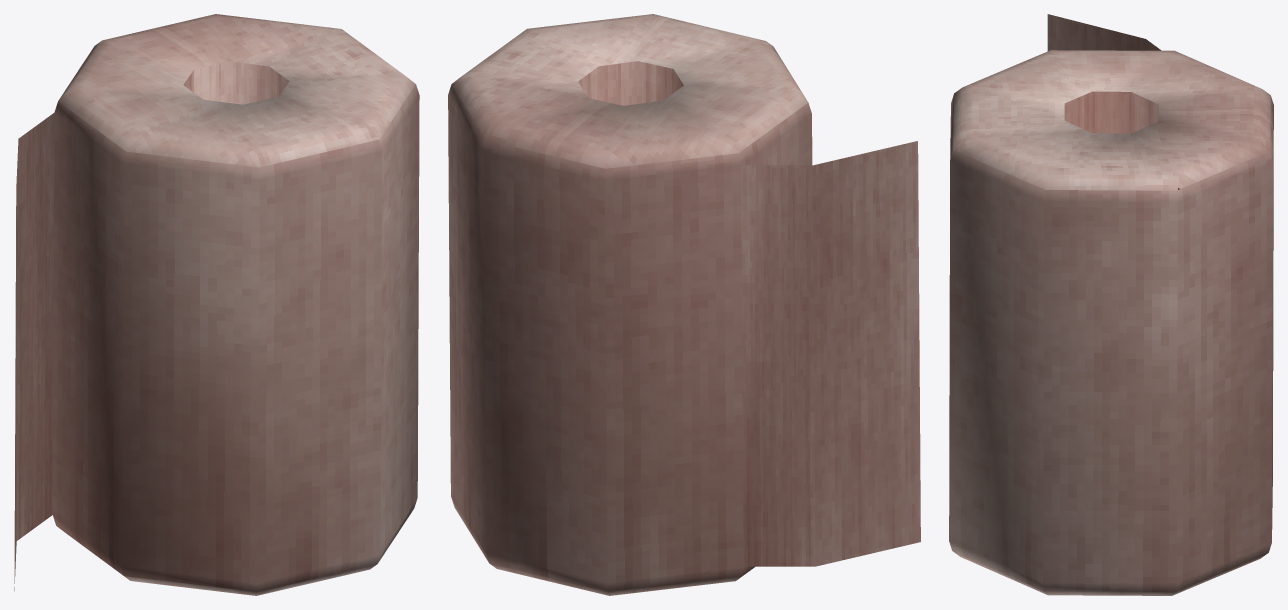
File: Bandage.glb
3 views of the same model, side by side, from view 1: azimuth 30°, elevation 25°; view 2: azimuth 150°, elevation 25°; view 3: azimuth 270°, elevation 25° (orthographic). The views are drawn at different scales.
Parts seen in each view (by area): view 1: Bandage.col; view 2: Bandage.col; view 3: Bandage.col.
Boxes of the visible parts, bbox=[...] form: Bandage.col: bbox=[14, 14, 419, 595]; Bandage.col: bbox=[448, 14, 920, 595]; Bandage.col: bbox=[949, 14, 1273, 595].
Bounding box in the file's own units: 0.9817 × 1.04 × 0.7186.
1 material, 1 textured.
